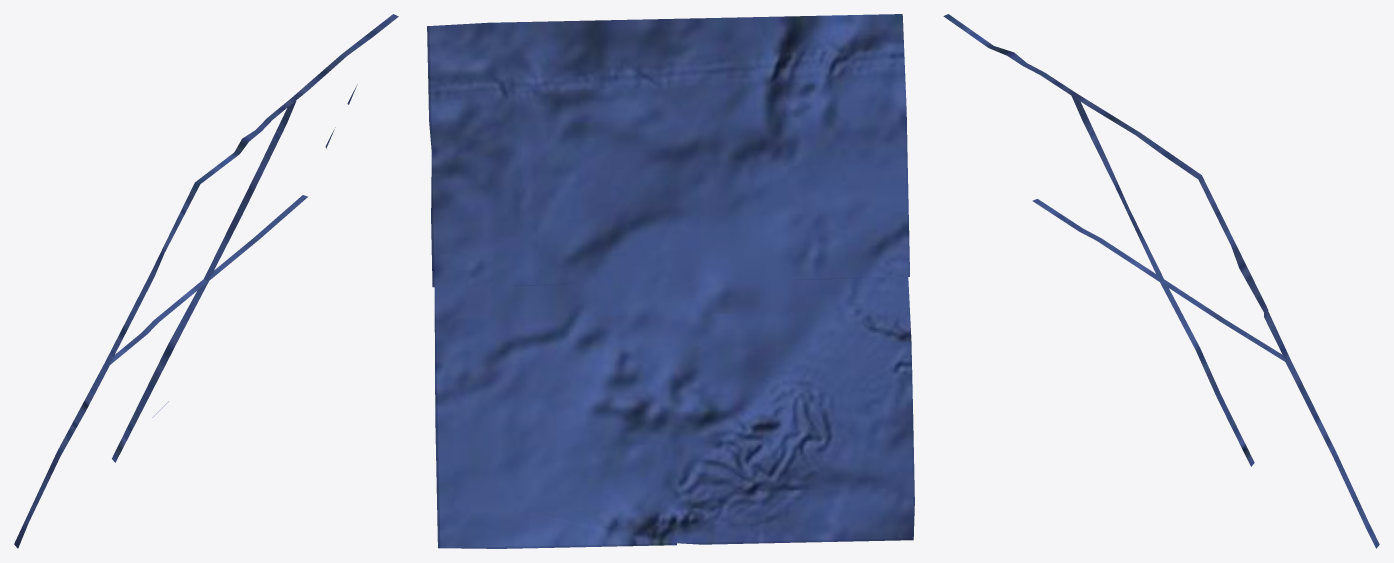
3 views of the same model, side by side, from view 1: azimuth 30°, elevation 25°; view 2: azimuth 150°, elevation 25°; view 3: azimuth 270°, elevation 25° (orthographic). The views are drawn at different scales.
Bounding box in the file's own units: 38985 × 36160 × 33717.
Materials: 1 (1 with a texture image).
